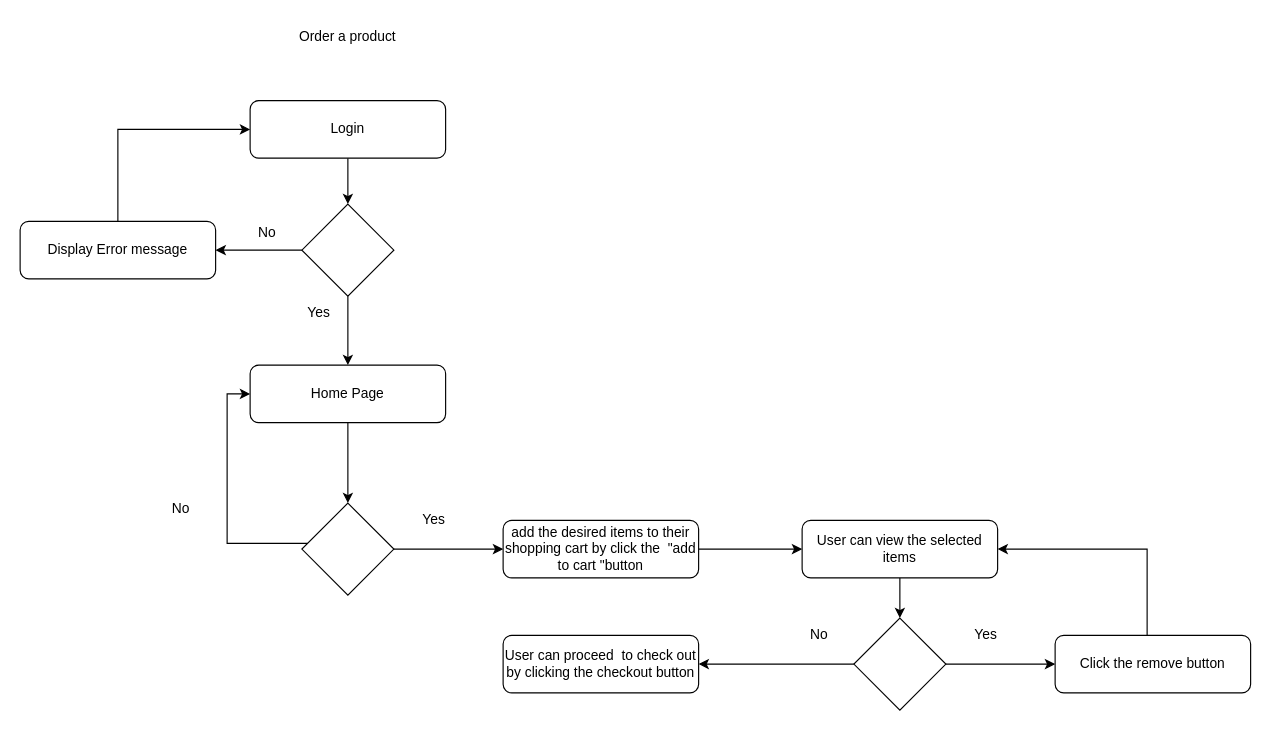
Some shapes in this 1271 by 730 pixel diagram are drawn without their labels. Here are the shapes that lost their labels. From the top down, the centre of each, then its label:
At [347,249]: "Valid".
At [347,548]: "Order".
At [899,663]: "Remove".
